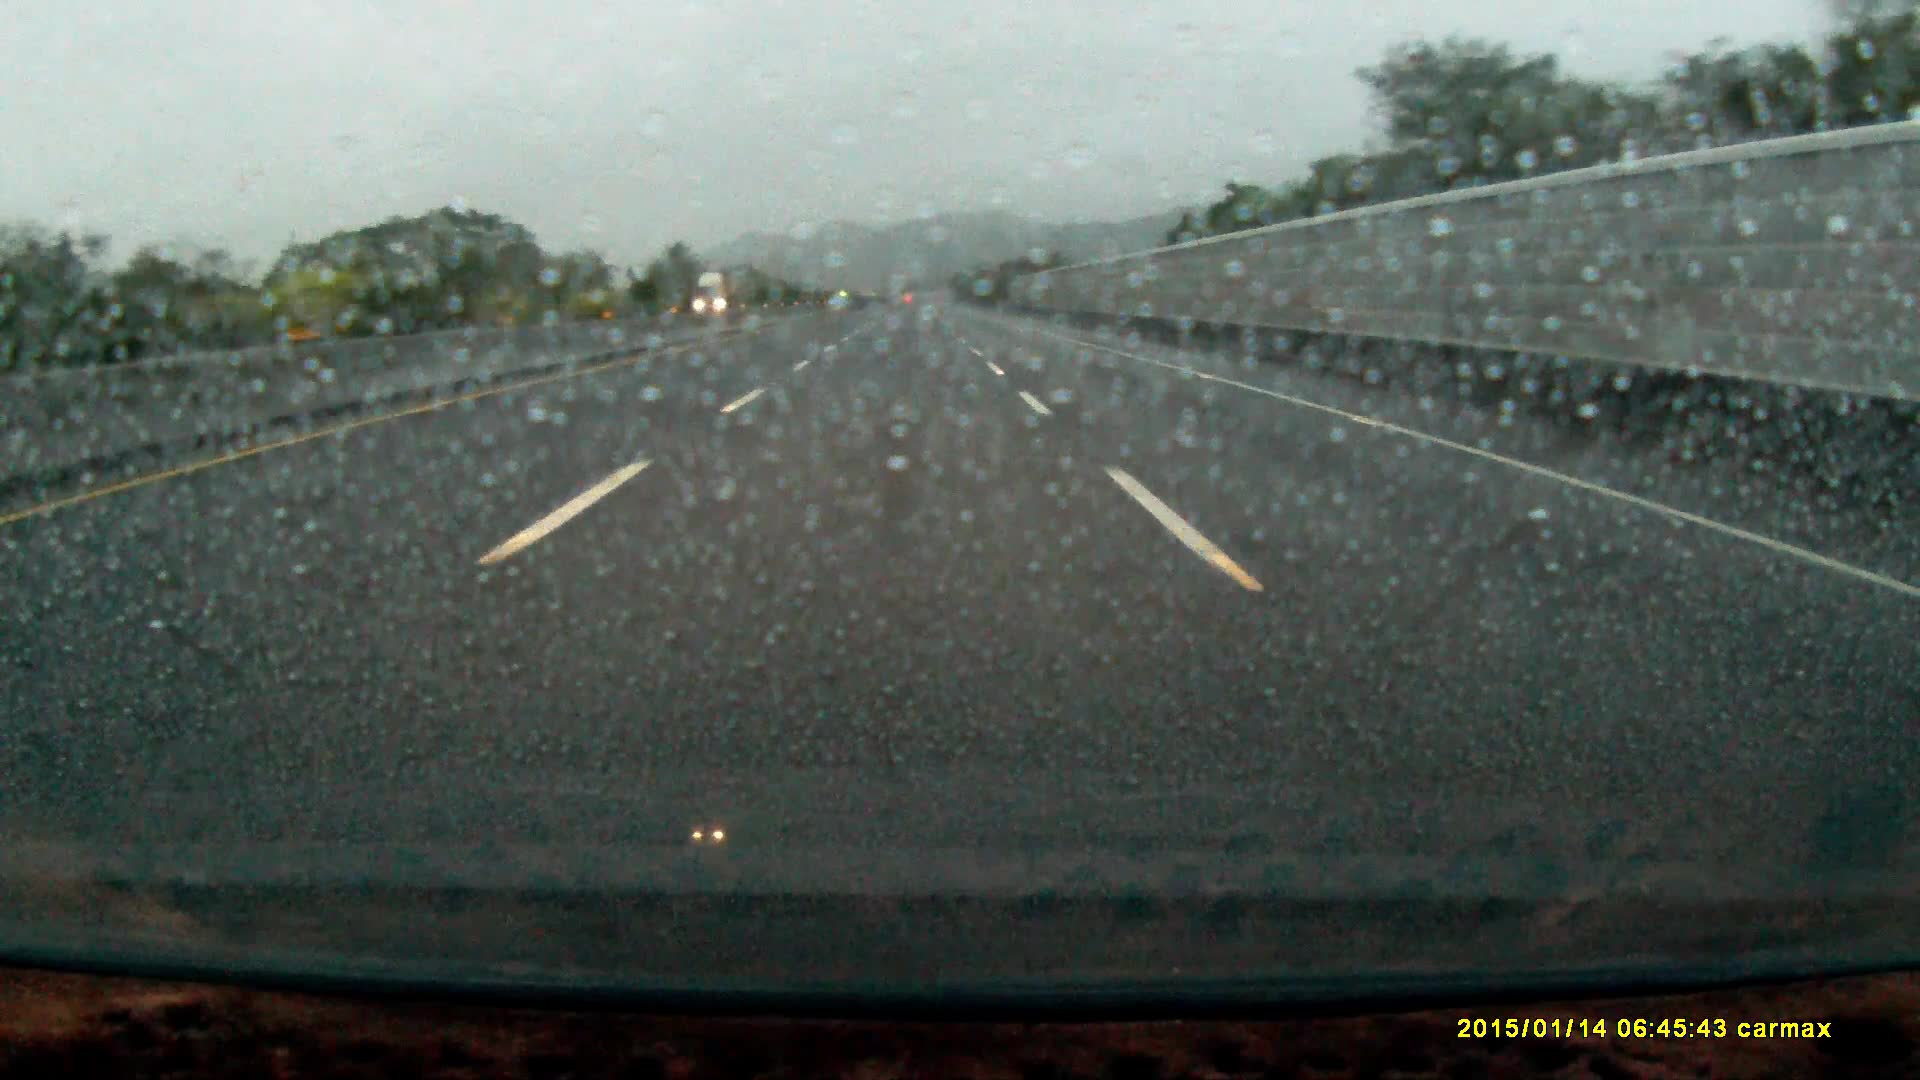vehicle: (691, 272, 742, 318)
